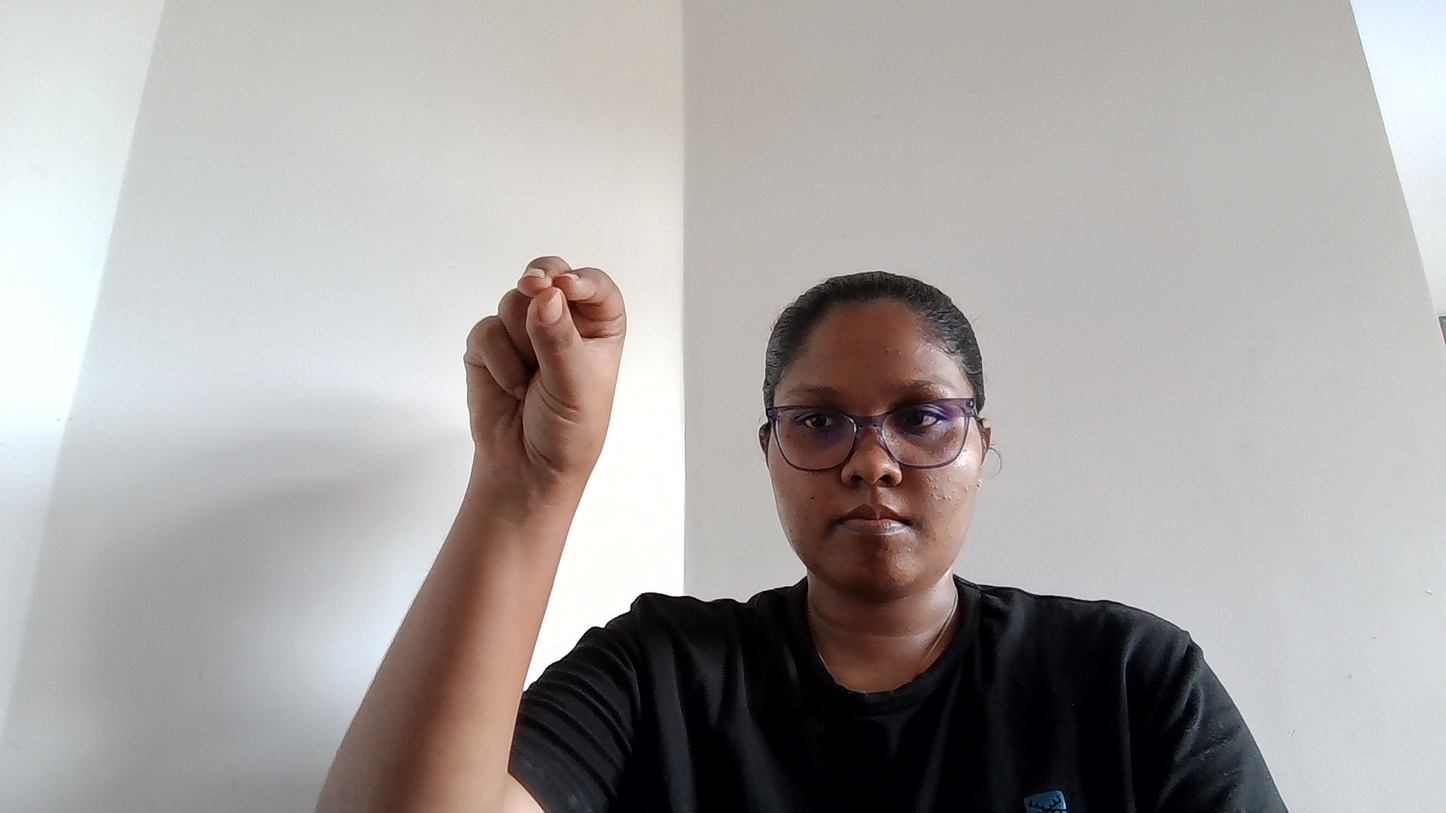No: (281, 132, 670, 580)
